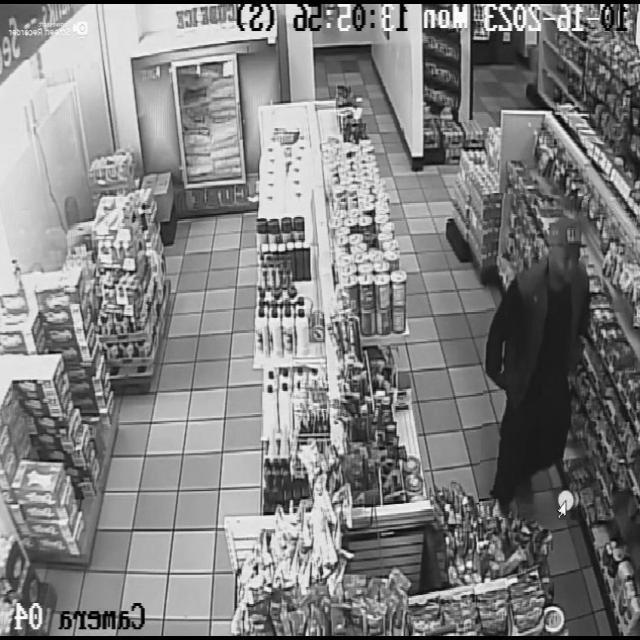Normal: (481, 194, 586, 520)
